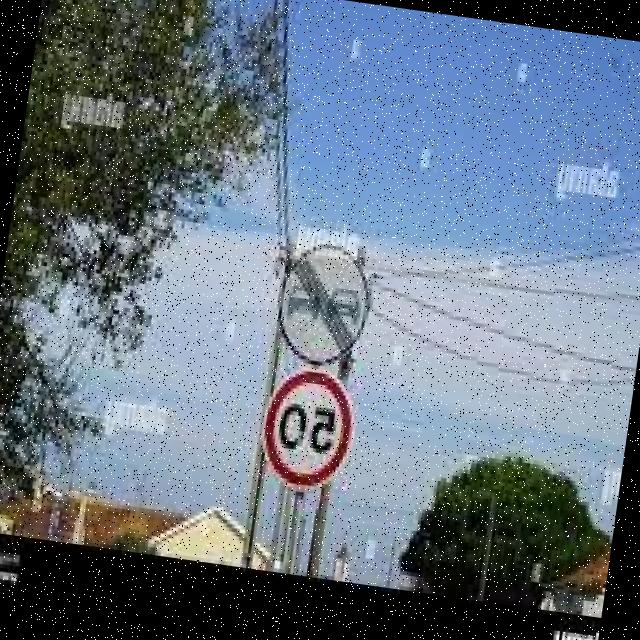speed_limit_50: (246, 352, 368, 503)
